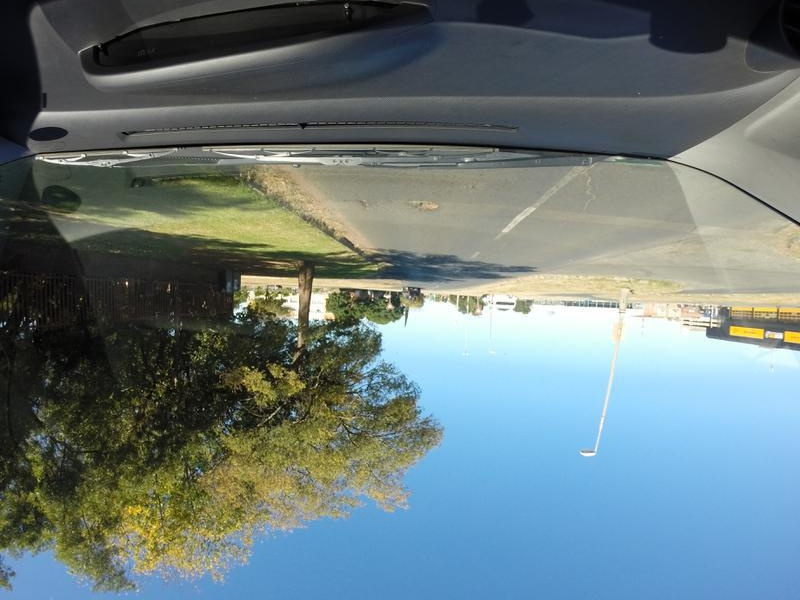pothole: (411, 198, 439, 211), (362, 196, 368, 207)
